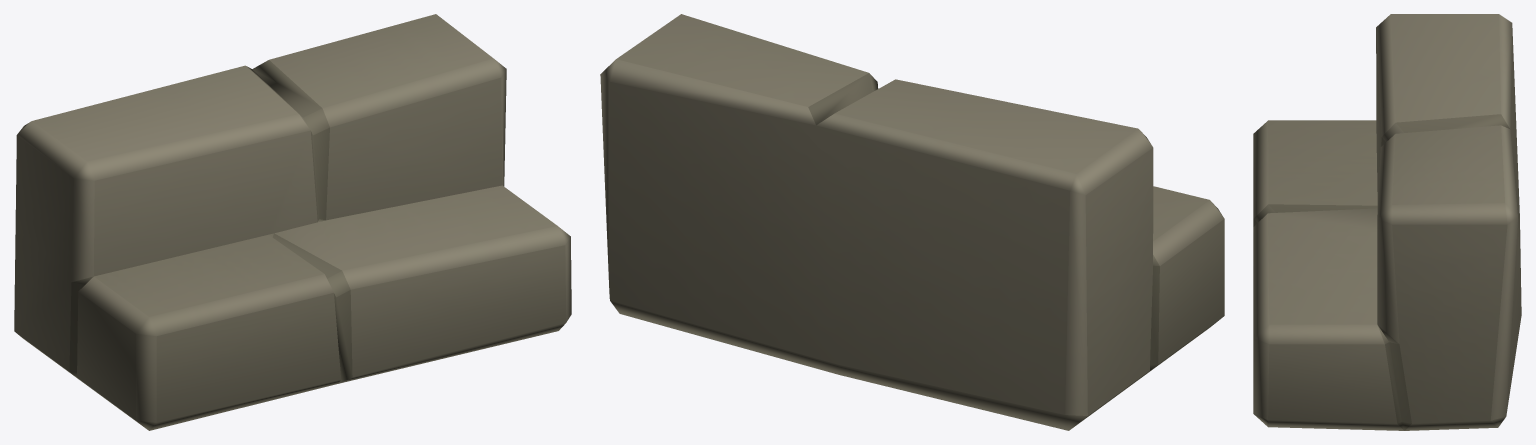
Rendered from orc_stairs_half_1_shade_4.fbx.
The picture shows the model from 3 angles, left to right: view 1: azimuth 30°, elevation 25°; view 2: azimuth 150°, elevation 25°; view 3: azimuth 270°, elevation 25°; orthographic projection. The views are drawn at different scales.
Parts seen in each view (by area): view 1: orc_stairs_half_1_shade_4; view 2: orc_stairs_half_1_shade_4; view 3: orc_stairs_half_1_shade_4.
Boxes of the visible parts, x1,y1,x2,y2 form: orc_stairs_half_1_shade_4: (14,14,571,430); orc_stairs_half_1_shade_4: (600,14,1224,430); orc_stairs_half_1_shade_4: (1253,14,1521,430).
Bounding box in the file's own units: 100 × 50.87 × 54.57.
